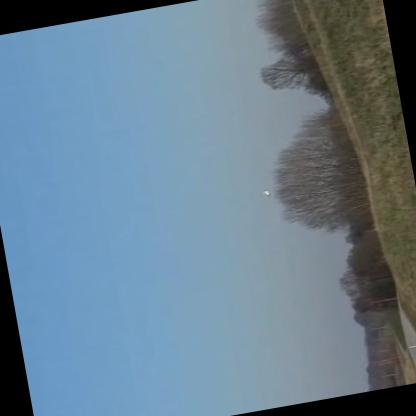plane: (259, 186, 277, 200)
